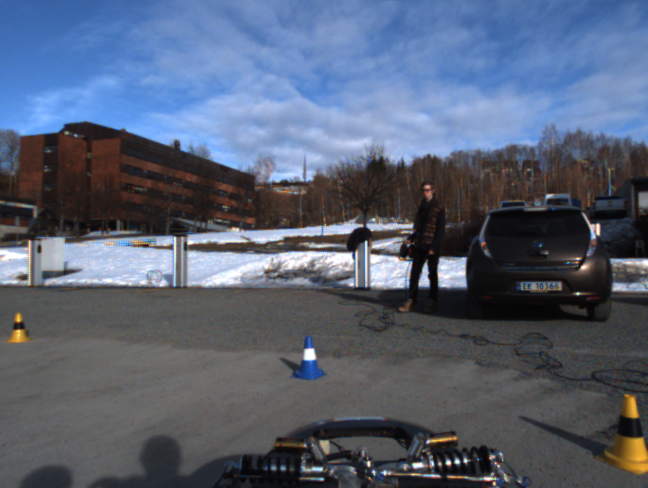cone-small-blue: (289, 335, 327, 379)
cone-small-yellow: (594, 393, 648, 475), (4, 312, 32, 344)
